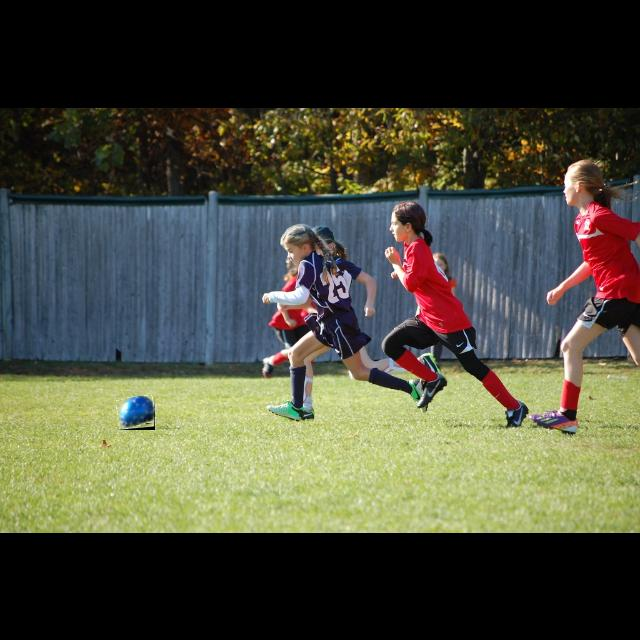Football: (117, 396, 155, 430)
